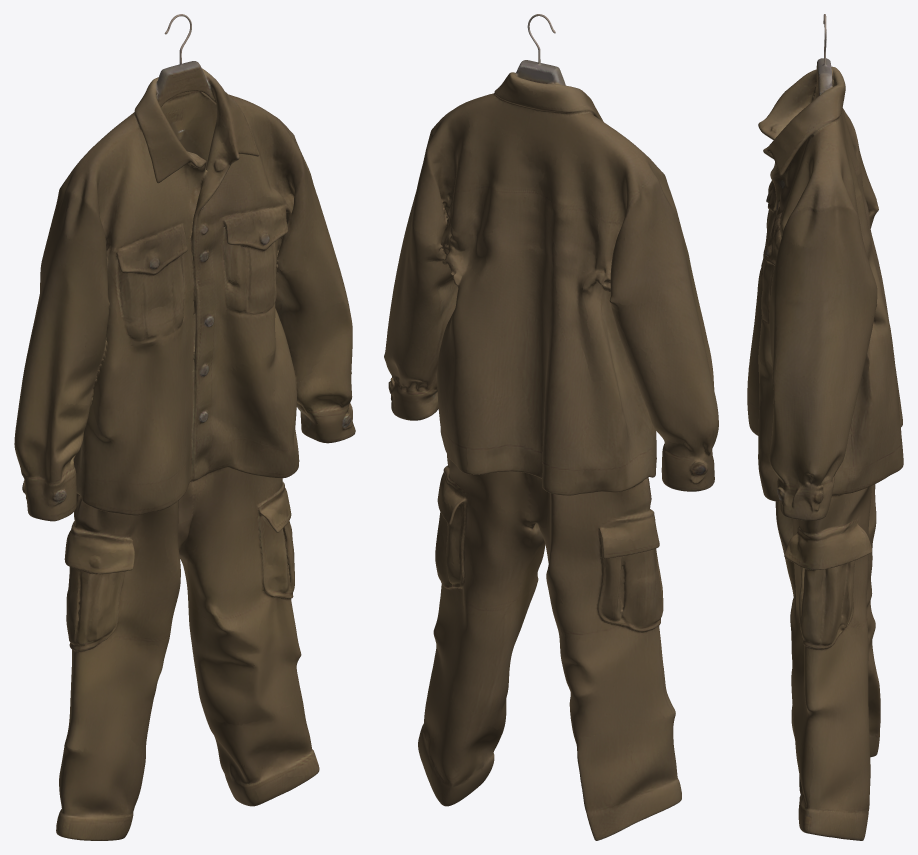
Rendered from Hanging_empty_canvas_worker_uniform_volumetric.glb.
3 renders of one model, left to right at view 1: azimuth 30°, elevation 25°; view 2: azimuth 150°, elevation 25°; view 3: azimuth 270°, elevation 25°, orthographic. The views are drawn at different scales.
Bounding box in the file's own units: 0.8228 × 1.9 × 0.3415.
1 material, 1 textured.
